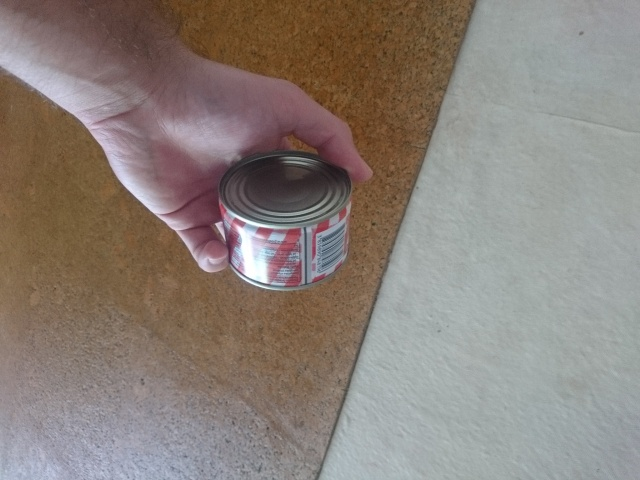Podravka Luncheon Meat 150g: (215, 147, 355, 294)
